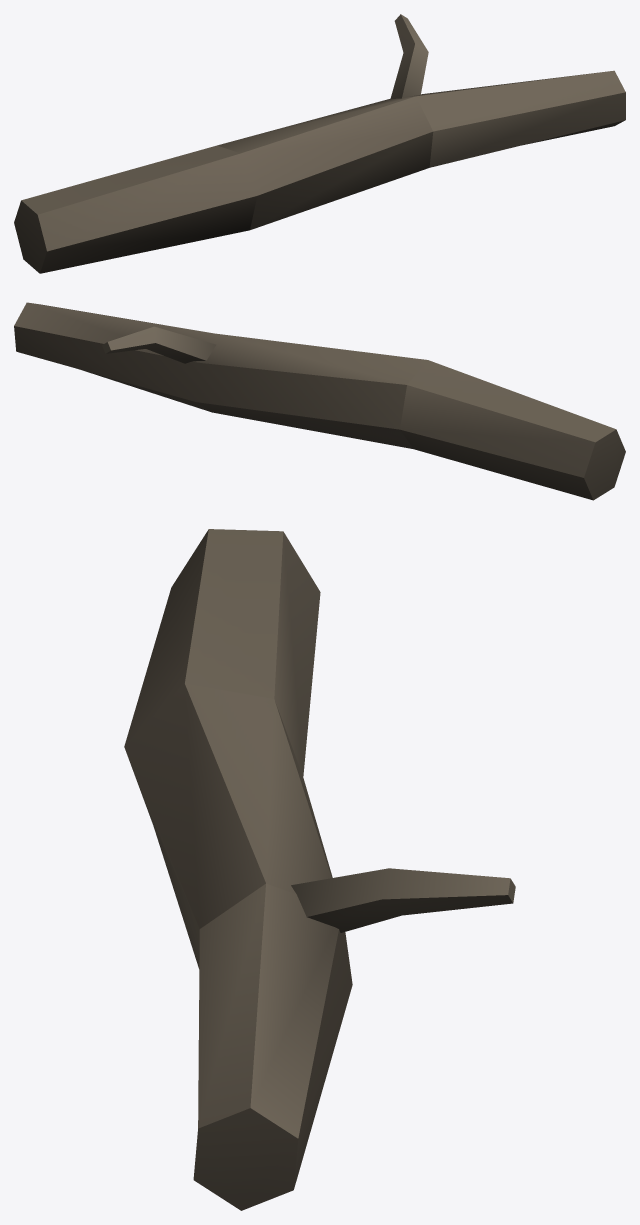
The model's file is PB_Driftwood.glb.
3 views of the same model, one above another, from view 1: azimuth 30°, elevation 25°; view 2: azimuth 150°, elevation 25°; view 3: azimuth 270°, elevation 25° (orthographic). The views are drawn at different scales.
Visible parts, largest first — view 1: PB_Driftwood_1_Wood; view 2: PB_Driftwood_1_Wood; view 3: PB_Driftwood_1_Wood.
Boxes of the visible parts, box(x1,y1,x2,y2) form: PB_Driftwood_1_Wood: box(14, 14, 625, 273); PB_Driftwood_1_Wood: box(14, 302, 625, 500); PB_Driftwood_1_Wood: box(124, 529, 515, 1210).
Size of the model in its own units: 8.06 by 1.32 by 2.35.
